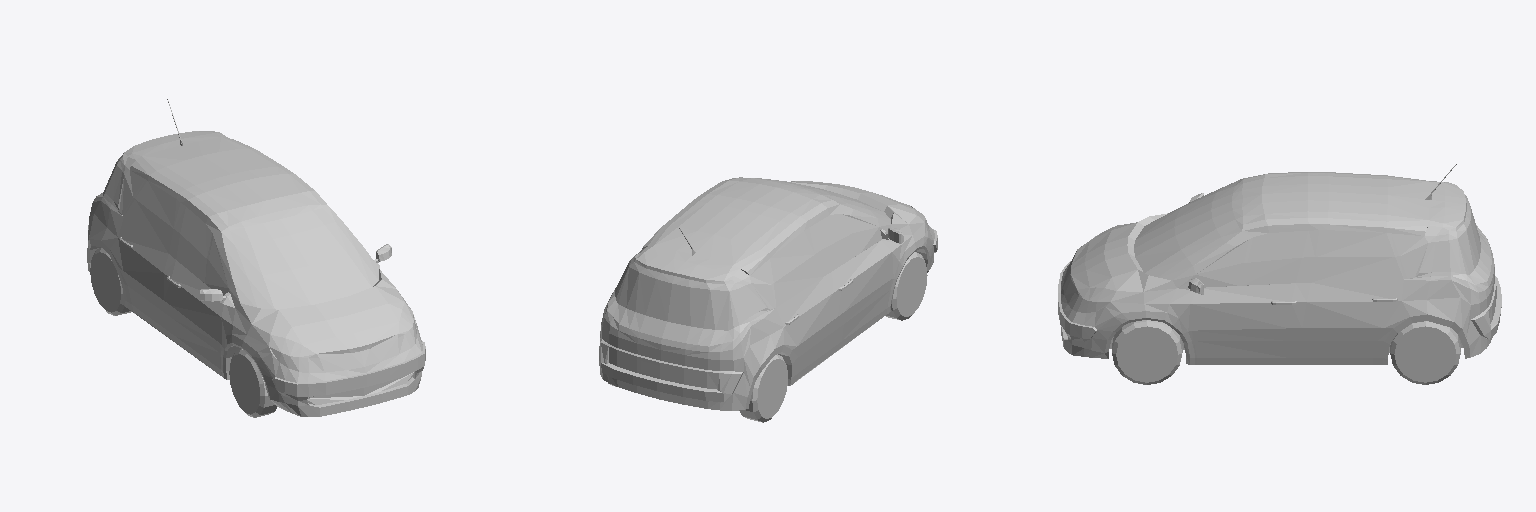
File: renault-scenic.obj
3 renders of one model, left to right at view 1: azimuth 30°, elevation 25°; view 2: azimuth 150°, elevation 25°; view 3: azimuth 270°, elevation 25°, orthographic.
Visible parts, largest first — view 1: Plane.002, Plane.002_Plane.004, Plane, Plane.006, Plane.003_Plane.005; view 2: Plane.002, Plane.002_Plane.004, Plane.006, Plane, Plane.003_Plane.005; view 3: Plane.002, Plane.002_Plane.004, Plane.011, Plane.010, Plane.003_Plane.005.
Boxes of the visible parts, x1,y1,x2,y2 form: Plane.002: [87, 131, 425, 416]; Plane.002_Plane.004: [128, 133, 308, 212]; Plane: [229, 349, 276, 417]; Plane.006: [90, 247, 131, 315]; Plane.003_Plane.005: [123, 179, 381, 365]; Plane.002: [599, 177, 937, 410]; Plane.002_Plane.004: [641, 180, 820, 274]; Plane.006: [739, 354, 787, 422]; Plane: [886, 252, 927, 320]; Plane.003_Plane.005: [768, 182, 893, 381]; Plane.002: [1058, 172, 1501, 364]; Plane.002_Plane.004: [1262, 173, 1444, 226]; Plane.011: [1112, 320, 1182, 384]; Plane.010: [1390, 321, 1460, 384]; Plane.003_Plane.005: [1109, 213, 1462, 352].
Size of the model in its own units: 2.17 by 2 by 4.34.